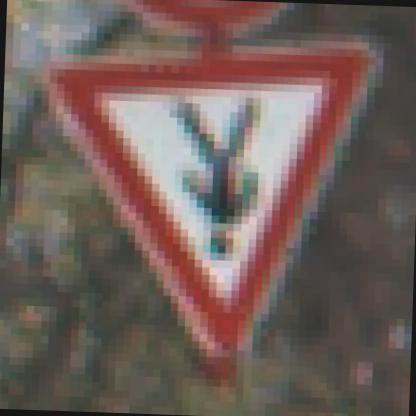crosswalk: (56, 23, 390, 366)
